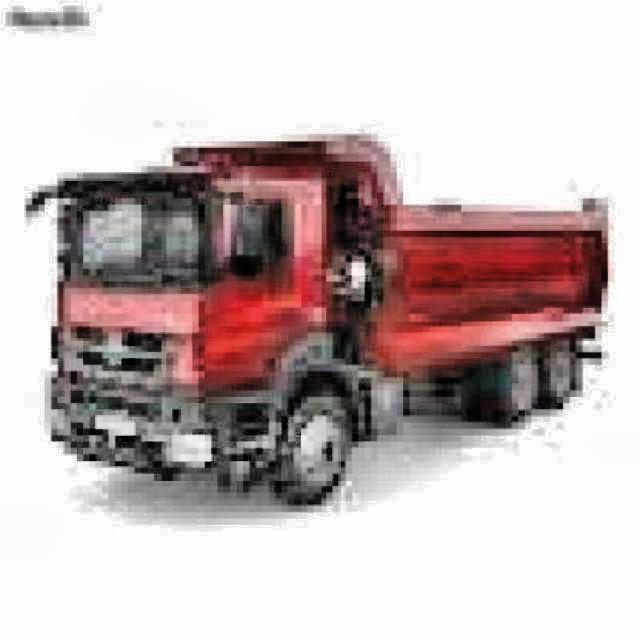dump_truck: (45, 116, 630, 524)
